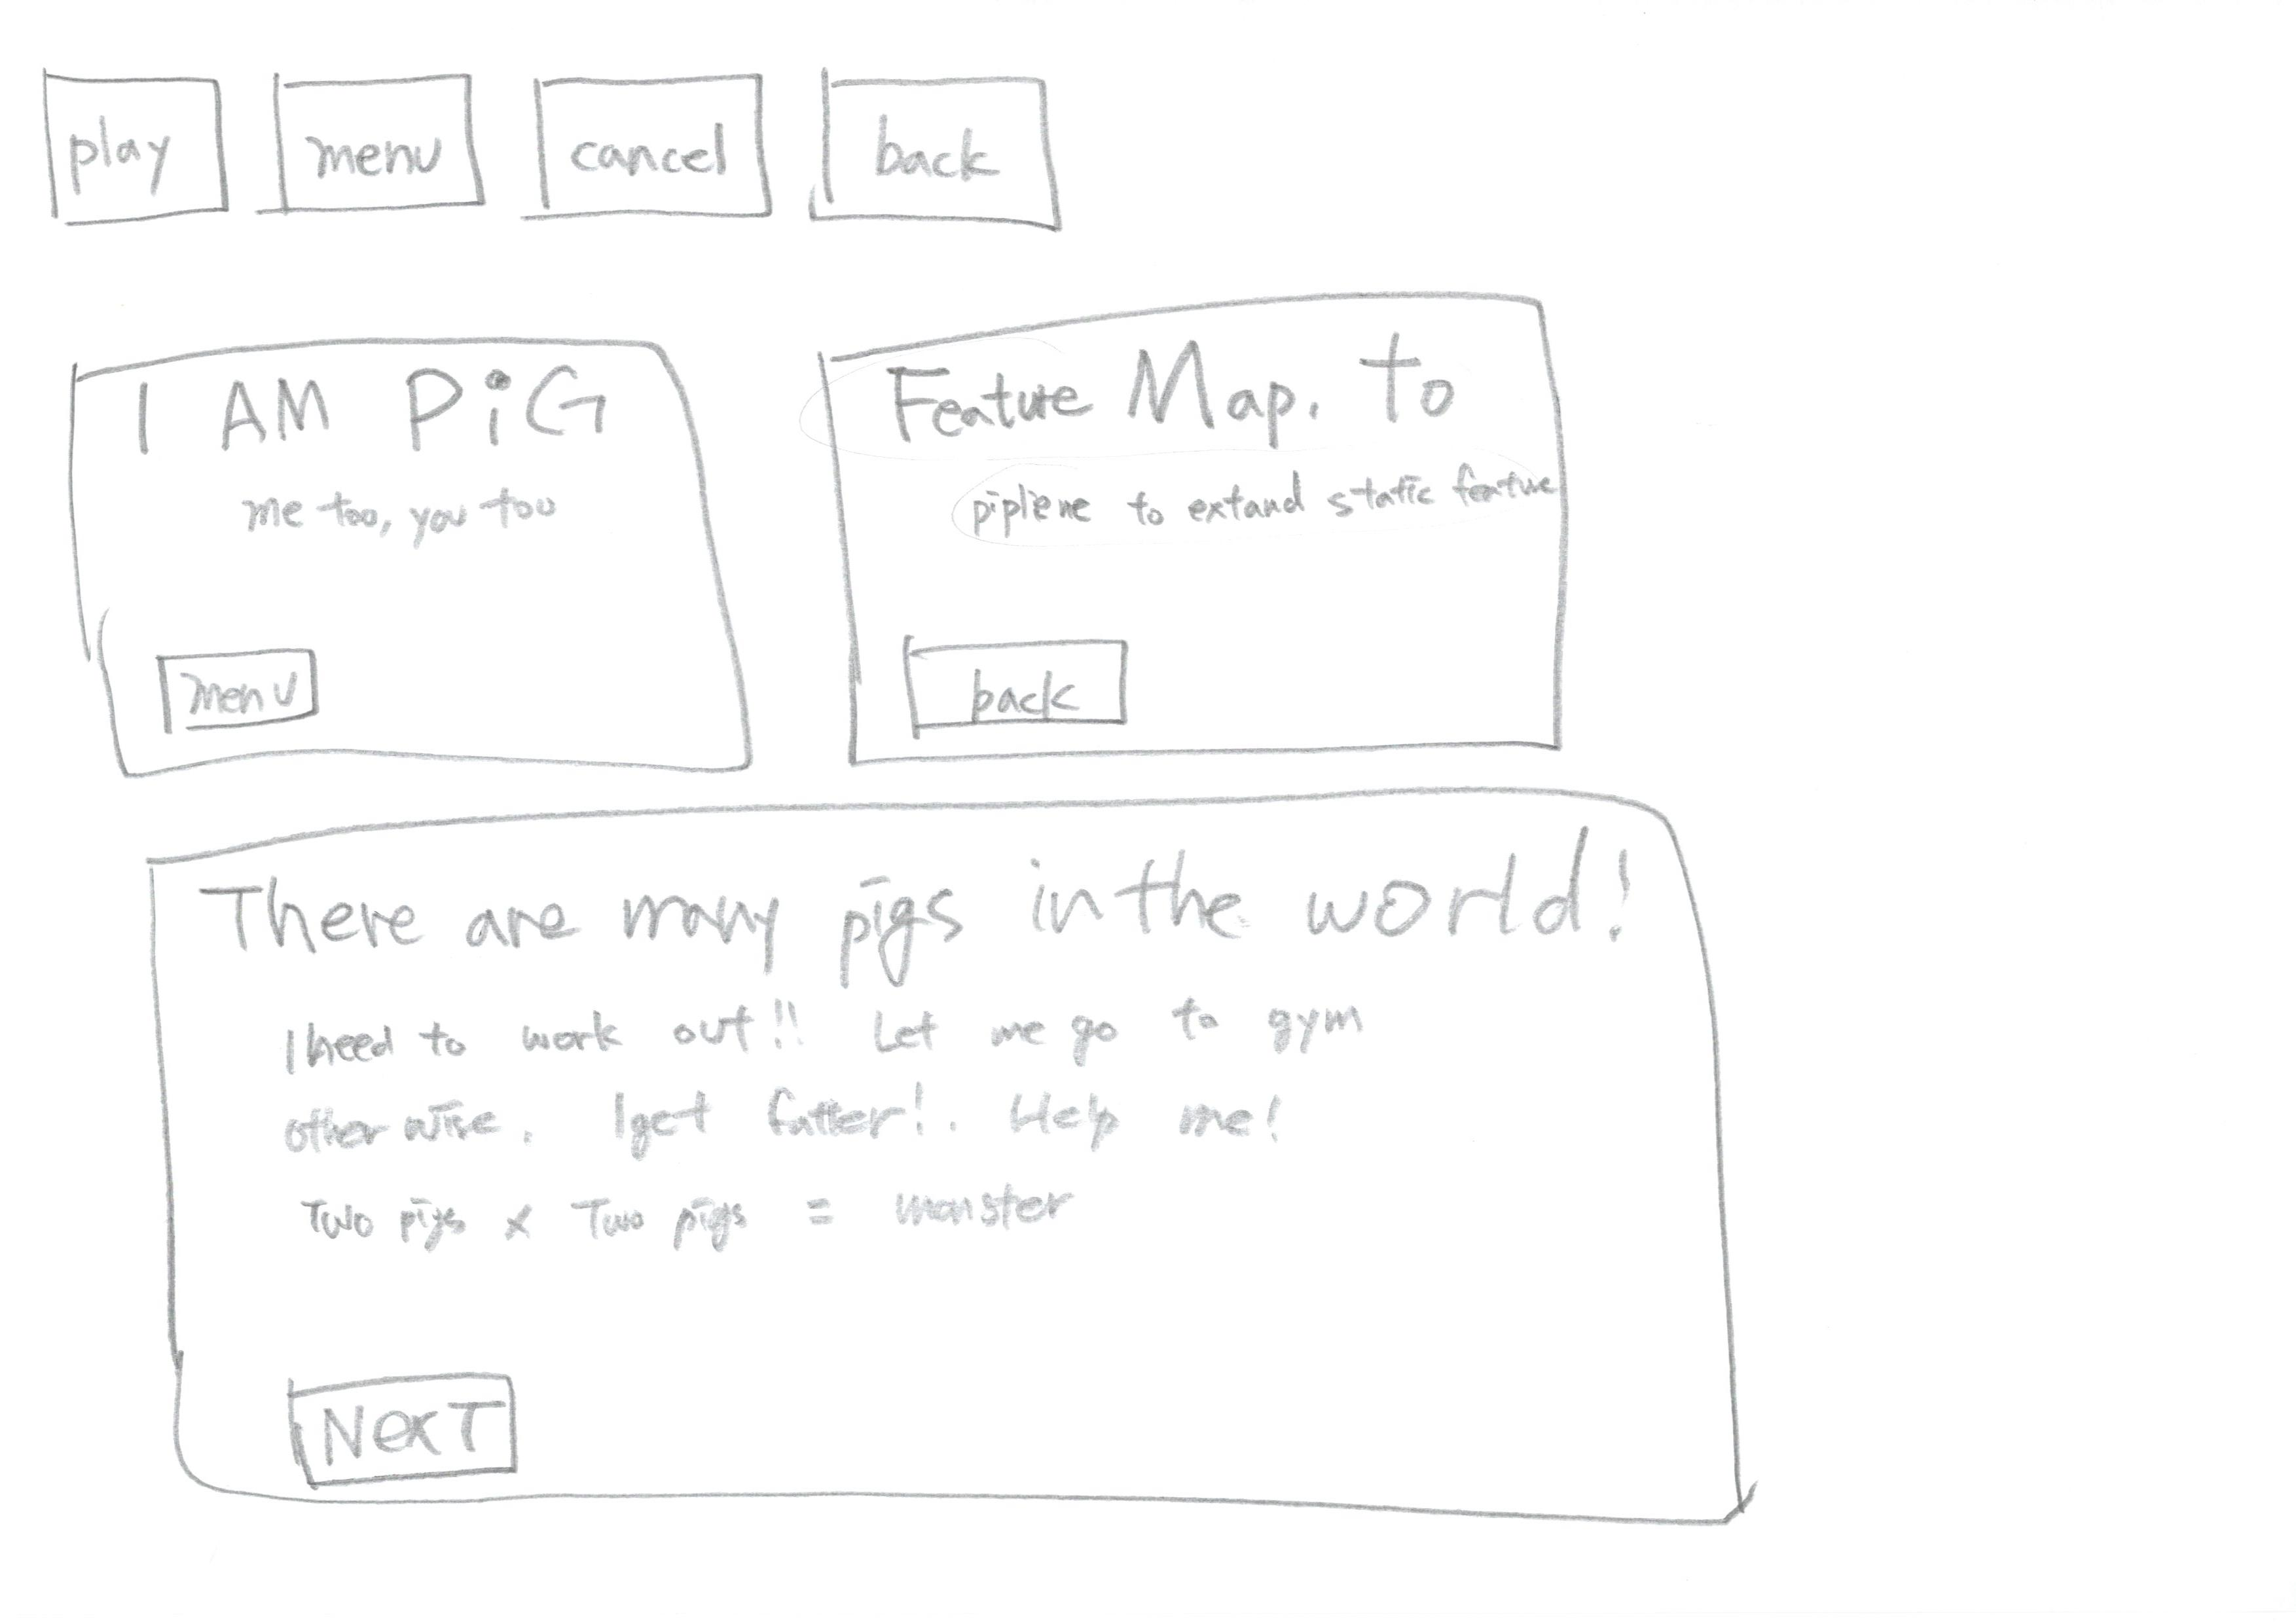back: (798, 39, 1108, 255), (893, 599, 1157, 749)
cancel: (508, 47, 784, 253)
double: (786, 283, 1626, 770), (5, 286, 796, 787)
menu: (244, 39, 499, 264), (135, 620, 338, 761)
next: (267, 1345, 540, 1501)
play: (12, 32, 239, 262)
row: (5, 766, 2296, 1589), (5, 278, 2296, 807), (5, 4, 2296, 271)
single: (86, 782, 1849, 1578)
small-title: (218, 805, 1614, 967), (113, 339, 619, 471), (877, 334, 1482, 429)
text: (260, 986, 1406, 1290), (939, 450, 1554, 534), (232, 480, 557, 559)
